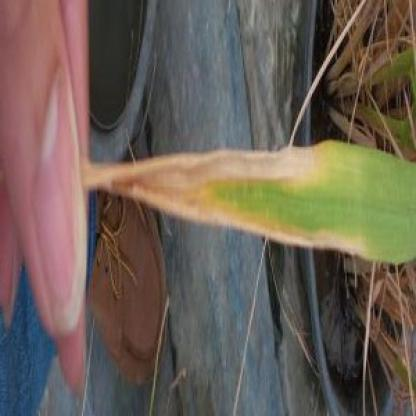Blight: (87, 130, 386, 276)
